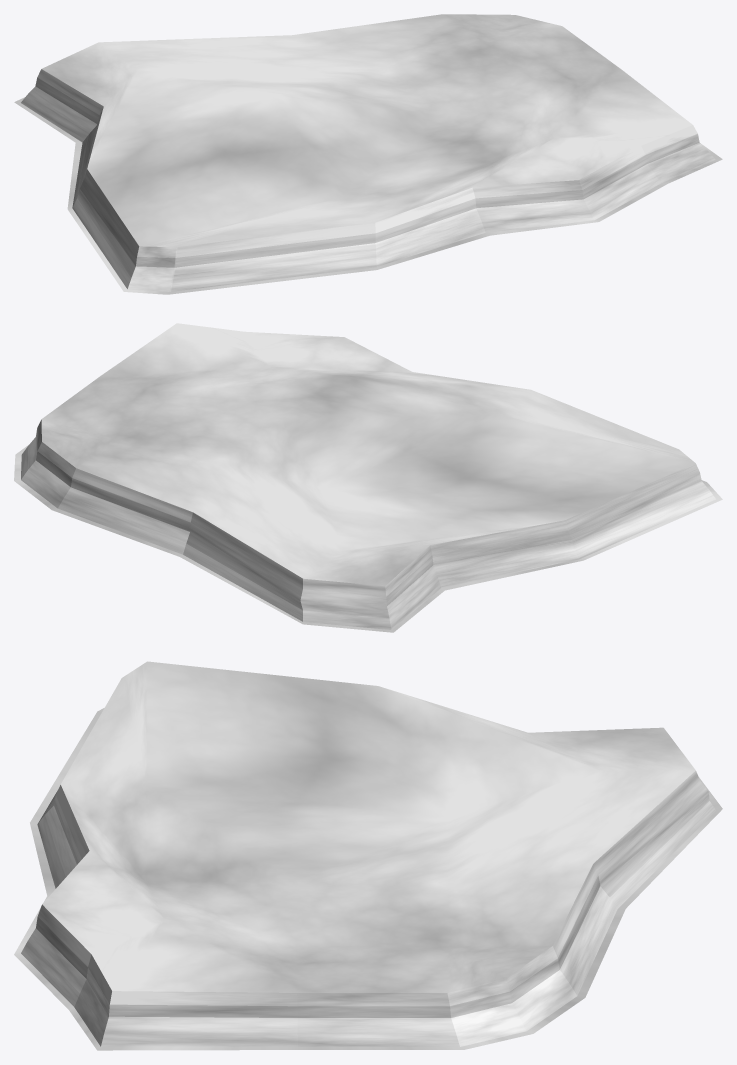
File: Small_StepStone2.obj
The picture shows the model from 3 angles, top to bottom: view 1: azimuth 30°, elevation 25°; view 2: azimuth 150°, elevation 25°; view 3: azimuth 270°, elevation 25°; orthographic projection. The views are drawn at different scales.
Visible parts, largest first — view 1: Cube_Cube.001; view 2: Cube_Cube.001; view 3: Cube_Cube.001.
Boxes of the visible parts, x1=… form: Cube_Cube.001: x1=14, y1=14, x2=722, y2=294; Cube_Cube.001: x1=14, y1=323, x2=722, y2=632; Cube_Cube.001: x1=14, y1=661, x2=722, y2=1050.
Size of the model in its own units: 7.15 by 0.4184 by 5.99.
